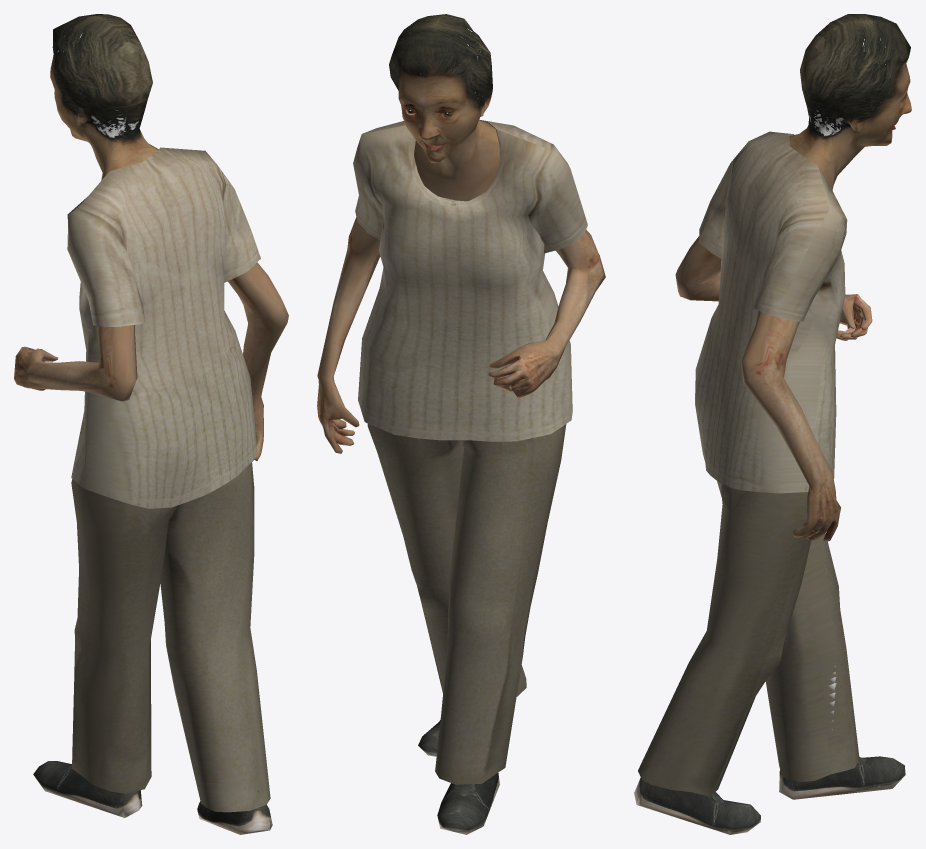
The model's file is enemy.obj.
The picture shows the model from 3 angles, left to right: view 1: azimuth 30°, elevation 25°; view 2: azimuth 150°, elevation 25°; view 3: azimuth 270°, elevation 25°; orthographic projection. The views are drawn at different scales.
Parts seen in each view (by area): view 1: cwom0008_wa_layer1.002; view 2: cwom0008_wa_layer1.002; view 3: cwom0008_wa_layer1.002.
Part boxes in pixels (x1=…): cwom0008_wa_layer1.002: x1=14, y1=14, x2=288, y2=834; cwom0008_wa_layer1.002: x1=317, y1=14, x2=605, y2=834; cwom0008_wa_layer1.002: x1=634, y1=14, x2=911, y2=834.
Size of the model in its own units: 0.9934 by 3.11 by 1.01.
